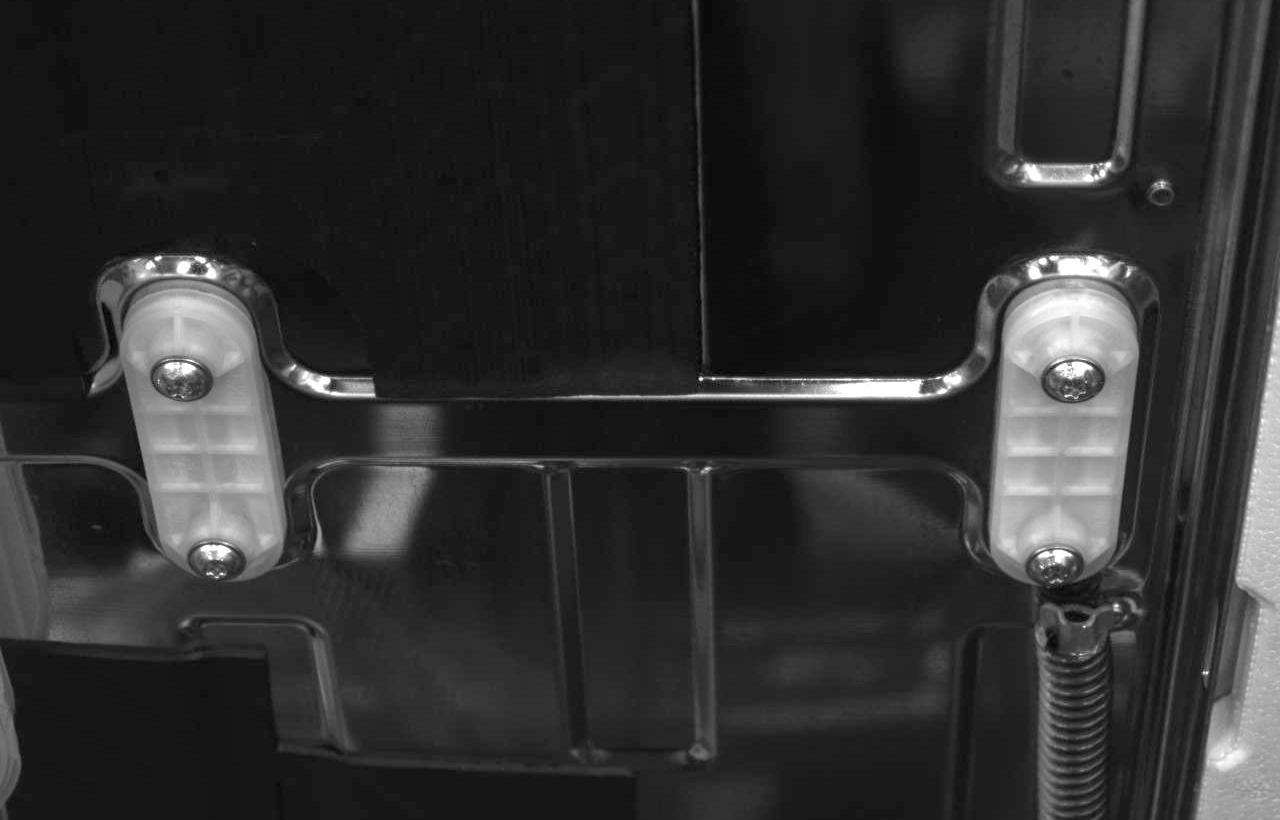vida-ok: (146, 348, 217, 415), (1039, 348, 1106, 415), (184, 527, 250, 585), (1024, 534, 1090, 592)
